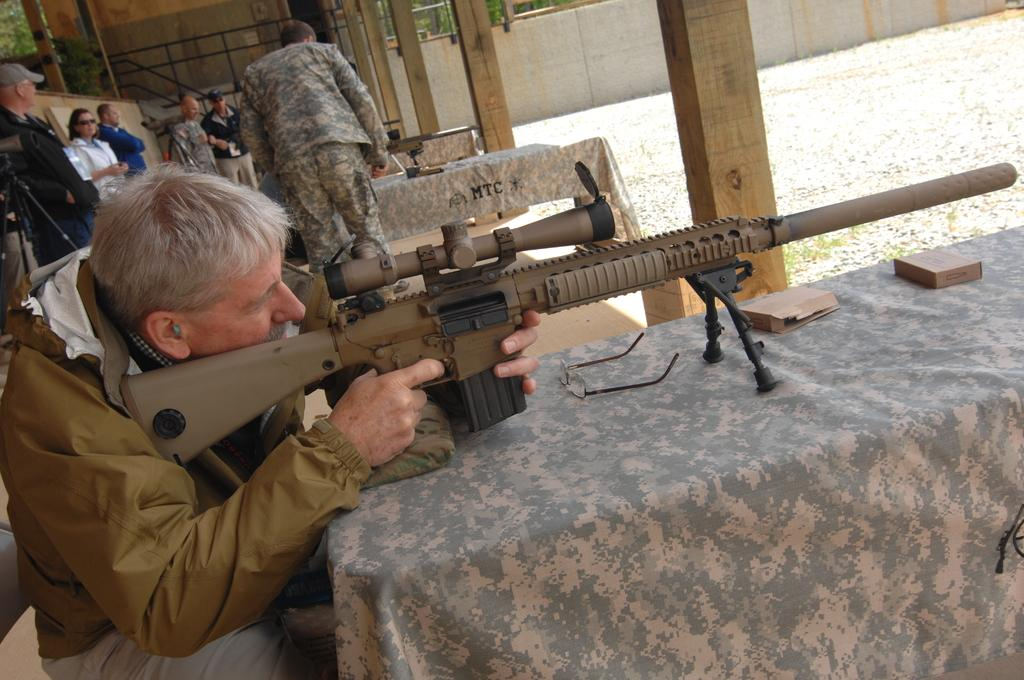Rifle: (179, 160, 972, 469)
